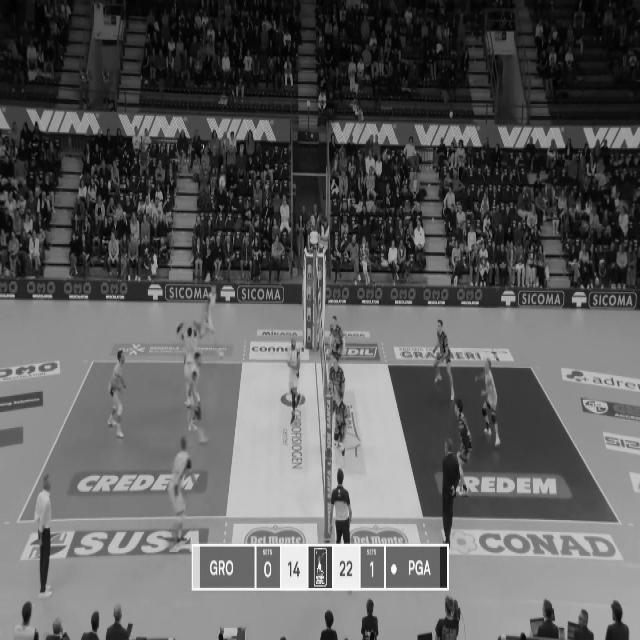volleyball court: (15, 361, 619, 523)
